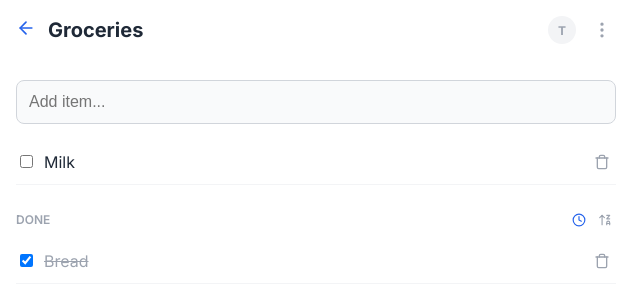
Test: ListDetailPage › shows Private list toggle in settings menu for creator
expect the heading "Groceries" is shown: met, box [48, 18, 143, 42]
Click the button named "List settings" at {"x": 602, "y": 30}, box [588, 16, 616, 44]
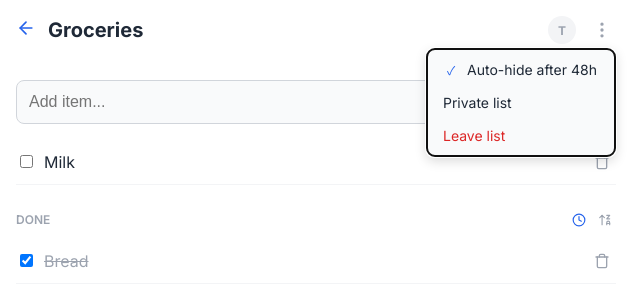
expect the menu item "Private list" is shown: met, box [443, 94, 512, 111]
